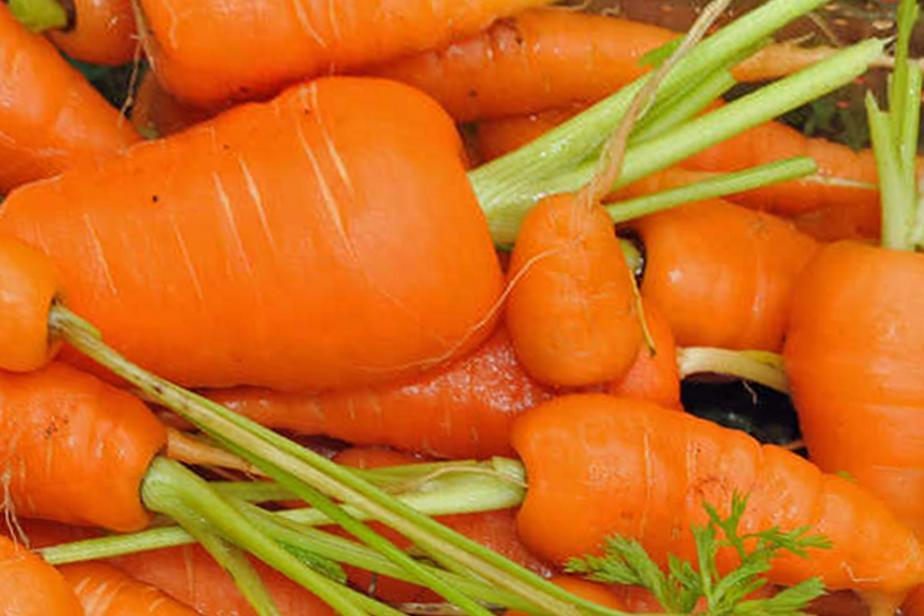carrot: (0, 54, 508, 407), (510, 1, 924, 418), (520, 345, 924, 616), (2, 367, 187, 616), (527, 185, 653, 385)
